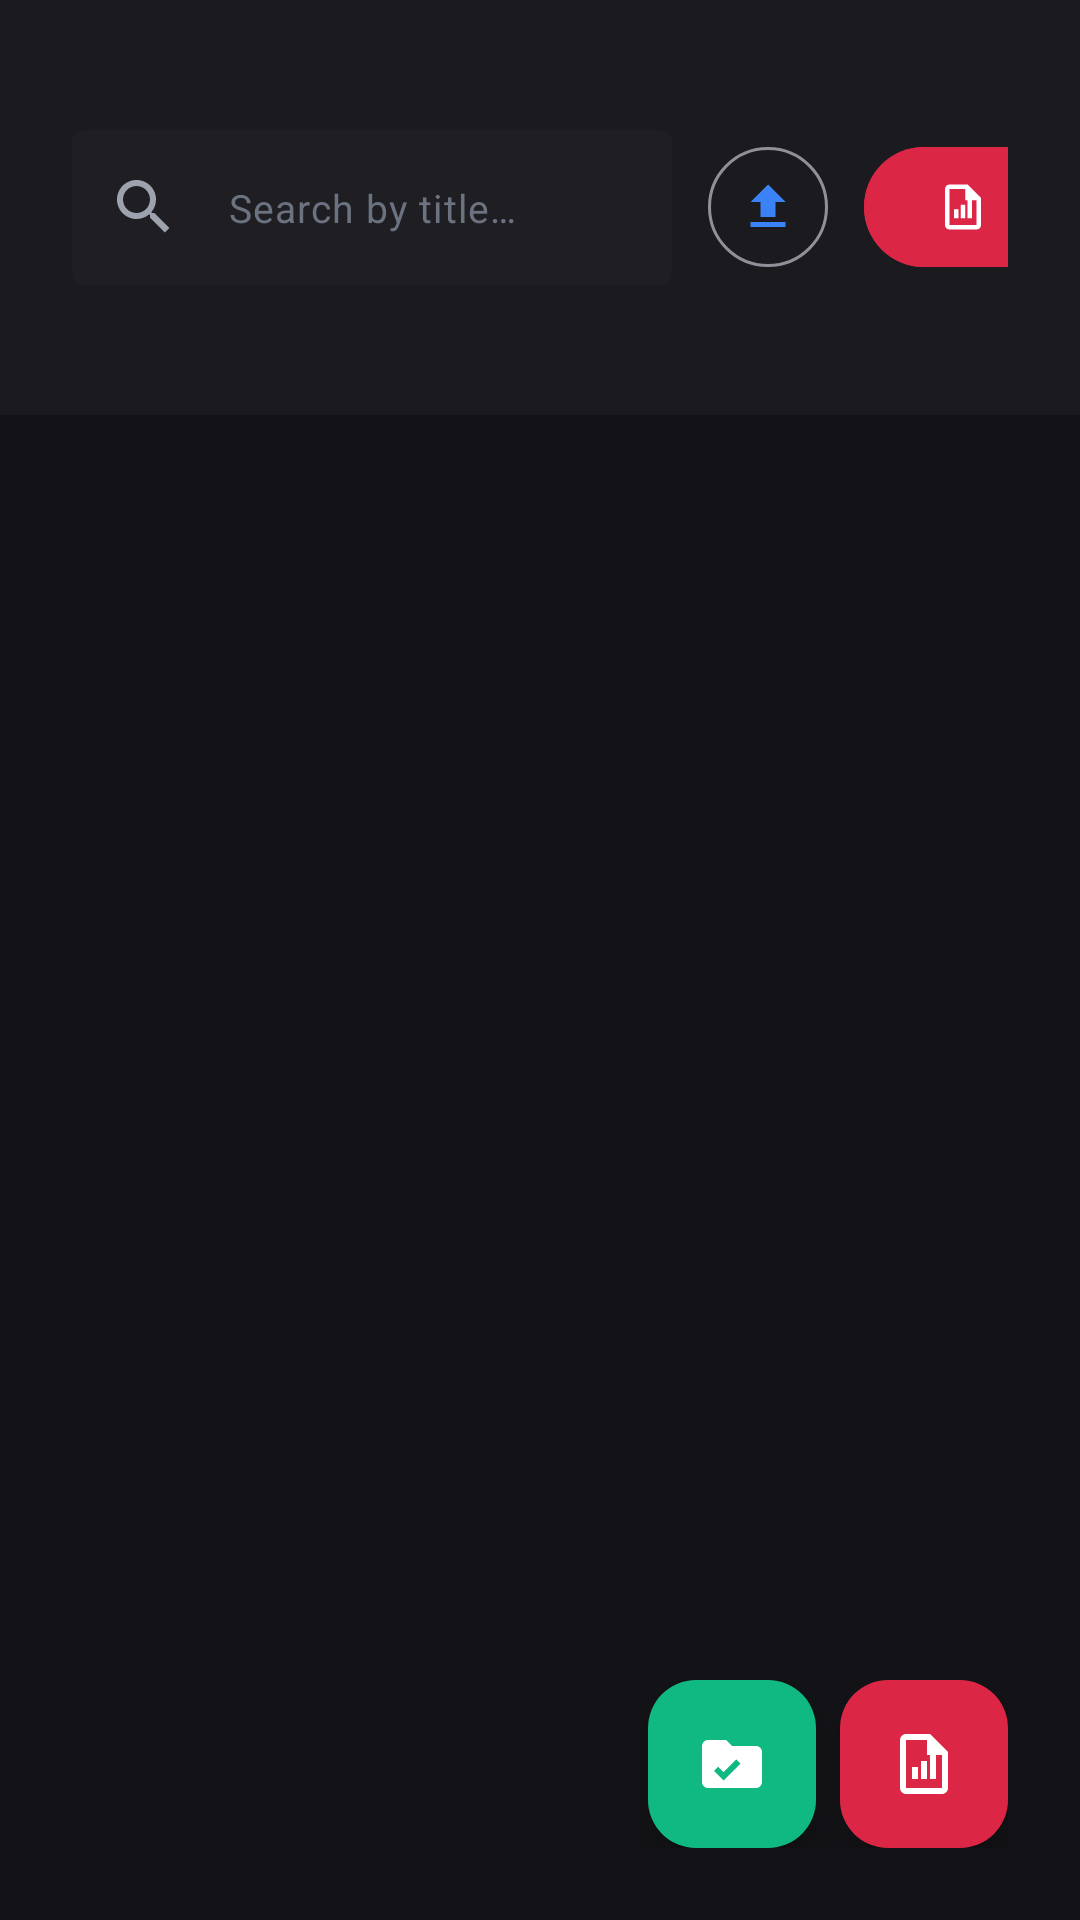

Named icons in this screenshot (1080 x 1920) and their bounding boxes, (x1, y1, x2, y2):
Create a new folder: (648, 1680, 816, 1848)
Import: (708, 147, 828, 267)
